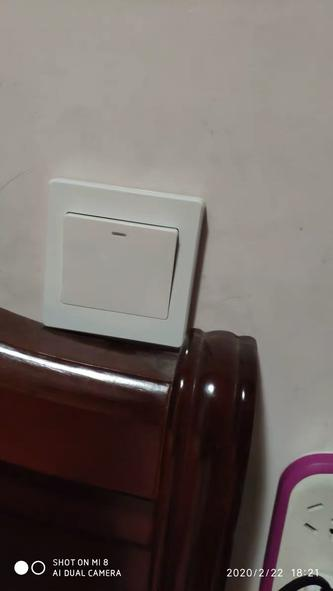switch: (57, 189, 181, 319)
